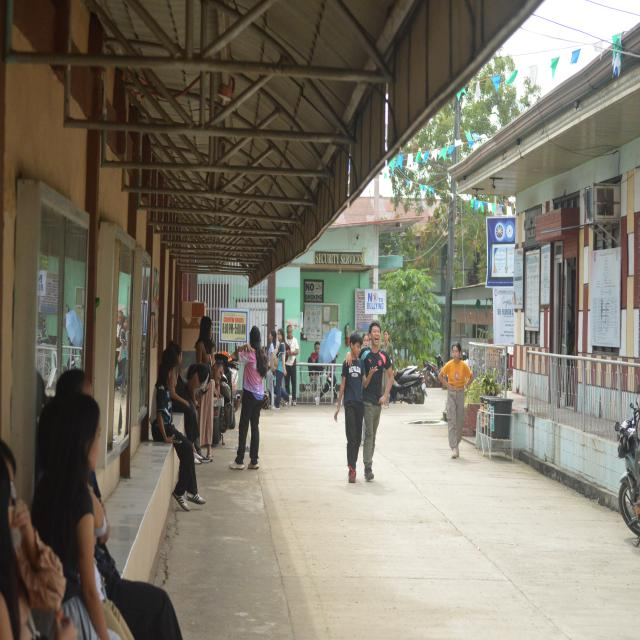person: (150, 348, 205, 511), (335, 332, 376, 482), (229, 326, 268, 469), (363, 321, 392, 480), (439, 343, 473, 458), (273, 329, 289, 409), (285, 325, 299, 405)
